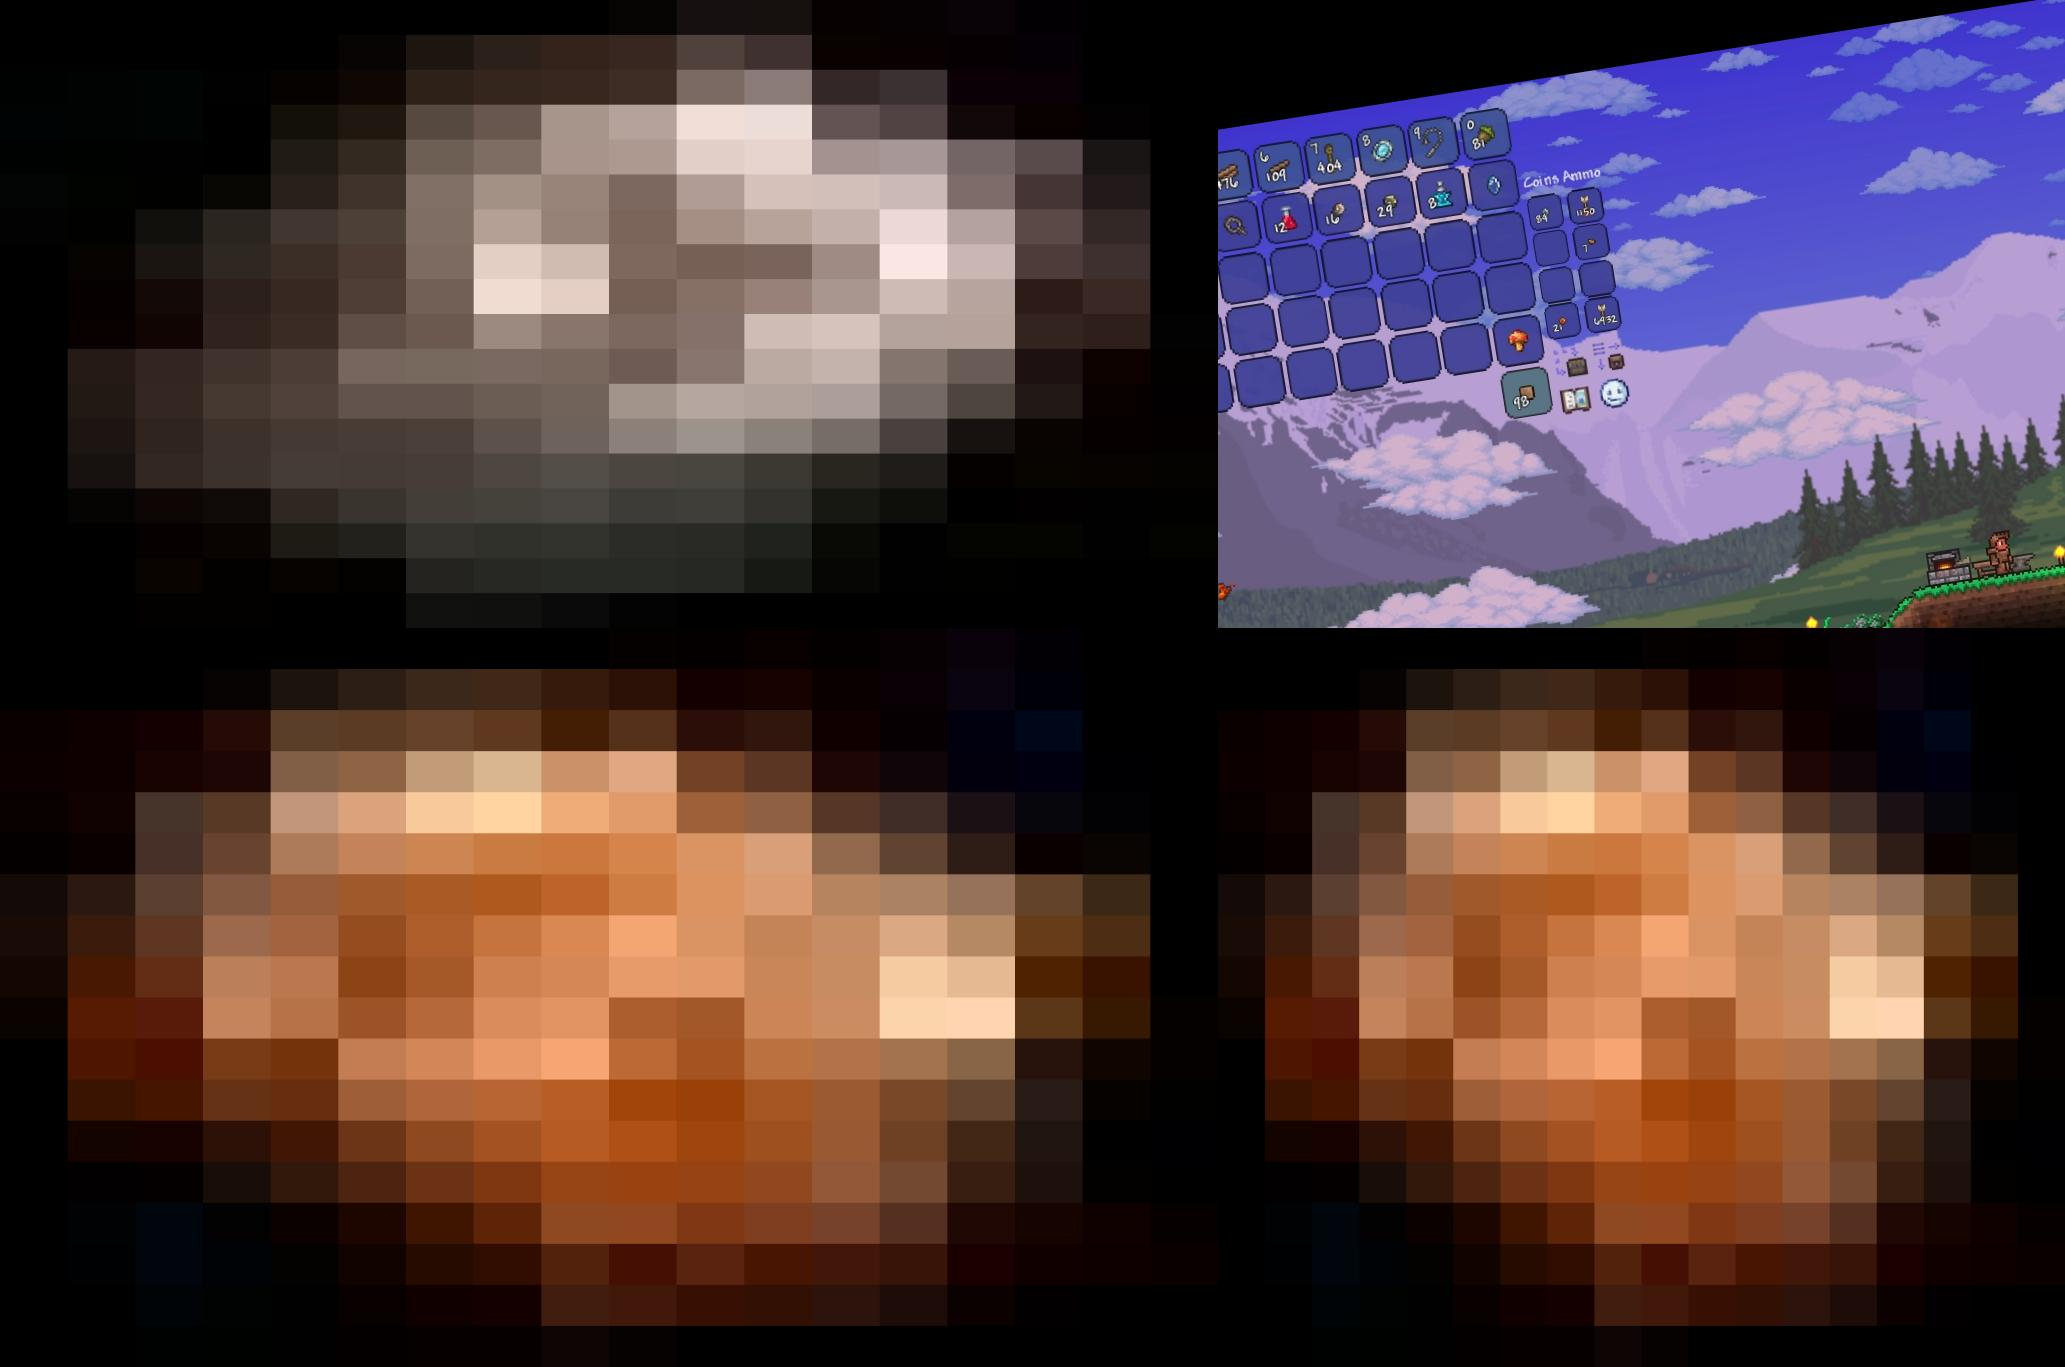ore: (0, 629, 1219, 1367), (0, 0, 1219, 629), (1219, 629, 2065, 1367)
potion: (1277, 201, 1296, 236)
